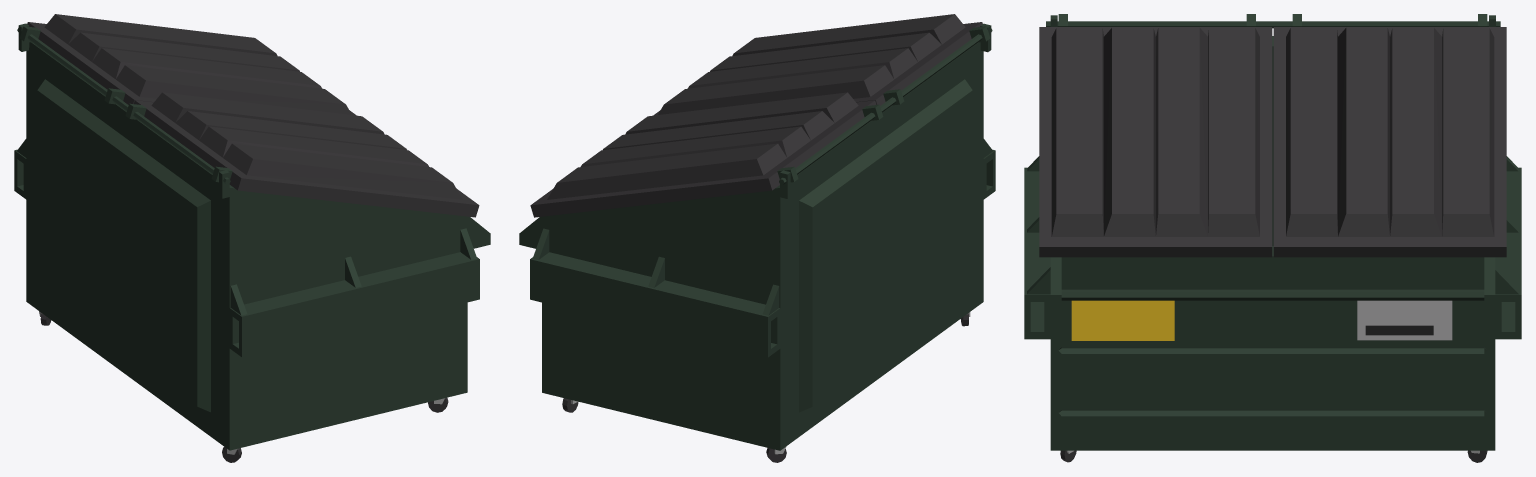
The model's file is SM_trash_bin_big.gltf.
3 views of the same model, side by side, from view 1: azimuth 30°, elevation 25°; view 2: azimuth 150°, elevation 25°; view 3: azimuth 270°, elevation 25° (orthographic). The views are drawn at different scales.
Parts seen in each view (by area): view 1: SM_trash_bin_big; view 2: SM_trash_bin_big; view 3: SM_trash_bin_big.
Part boxes in pixels (x1=…): SM_trash_bin_big: x1=14, y1=14, x2=490, y2=462; SM_trash_bin_big: x1=519, y1=14, x2=995, y2=462; SM_trash_bin_big: x1=1024, y1=14, x2=1521, y2=462.
Size of the model in its own units: 1.63 by 1.74 by 2.37.
1 material, 1 textured.
